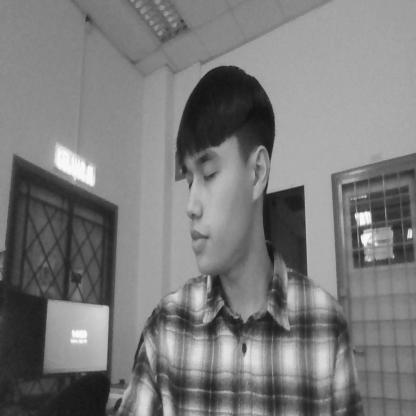Closed-Eyes: (181, 156, 223, 196)
